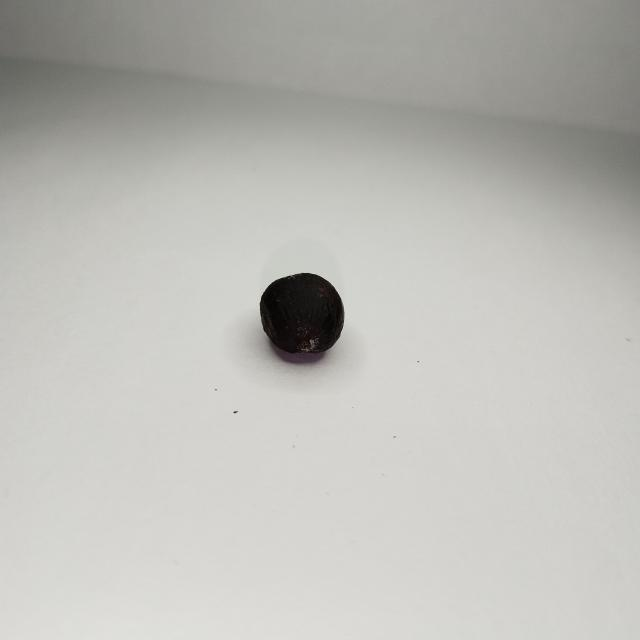Danado: (258, 272, 345, 362)
